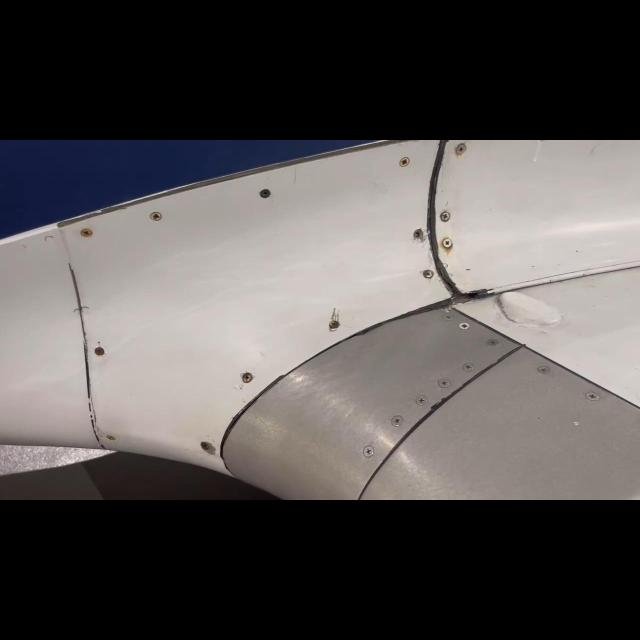Missing Fastener: (409, 226, 425, 244)
